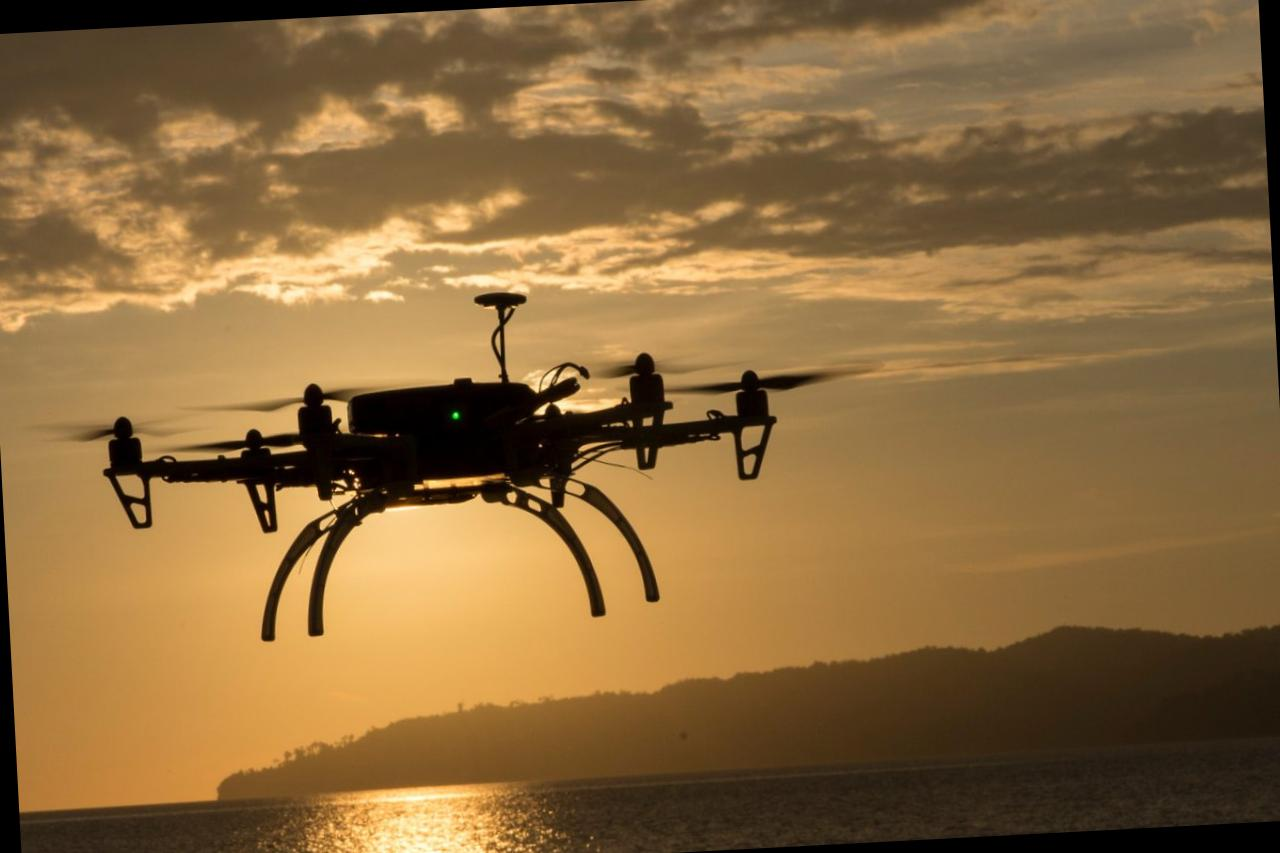drone: (55, 298, 862, 639)
